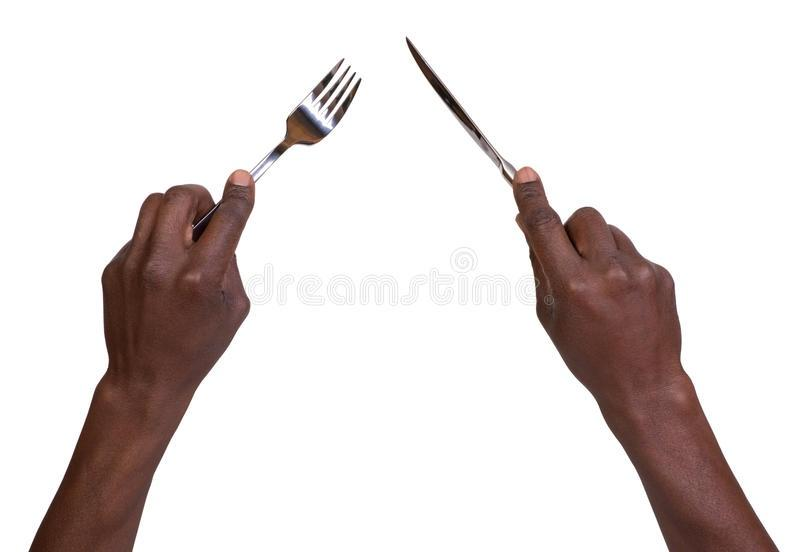knives: (390, 31, 517, 177)
